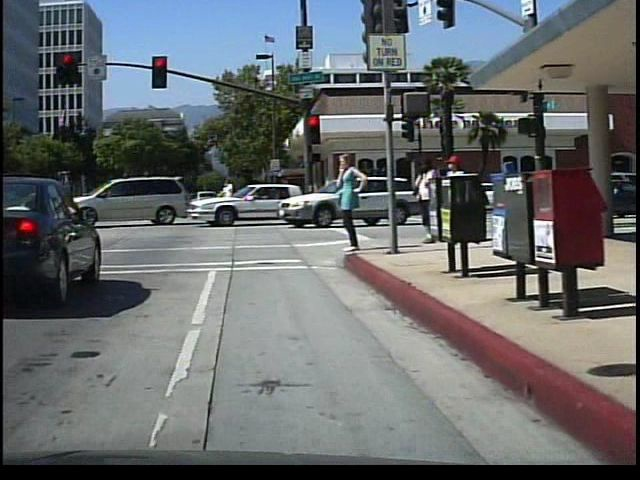person: (331, 148, 366, 257), (436, 146, 471, 247), (412, 149, 442, 246)
